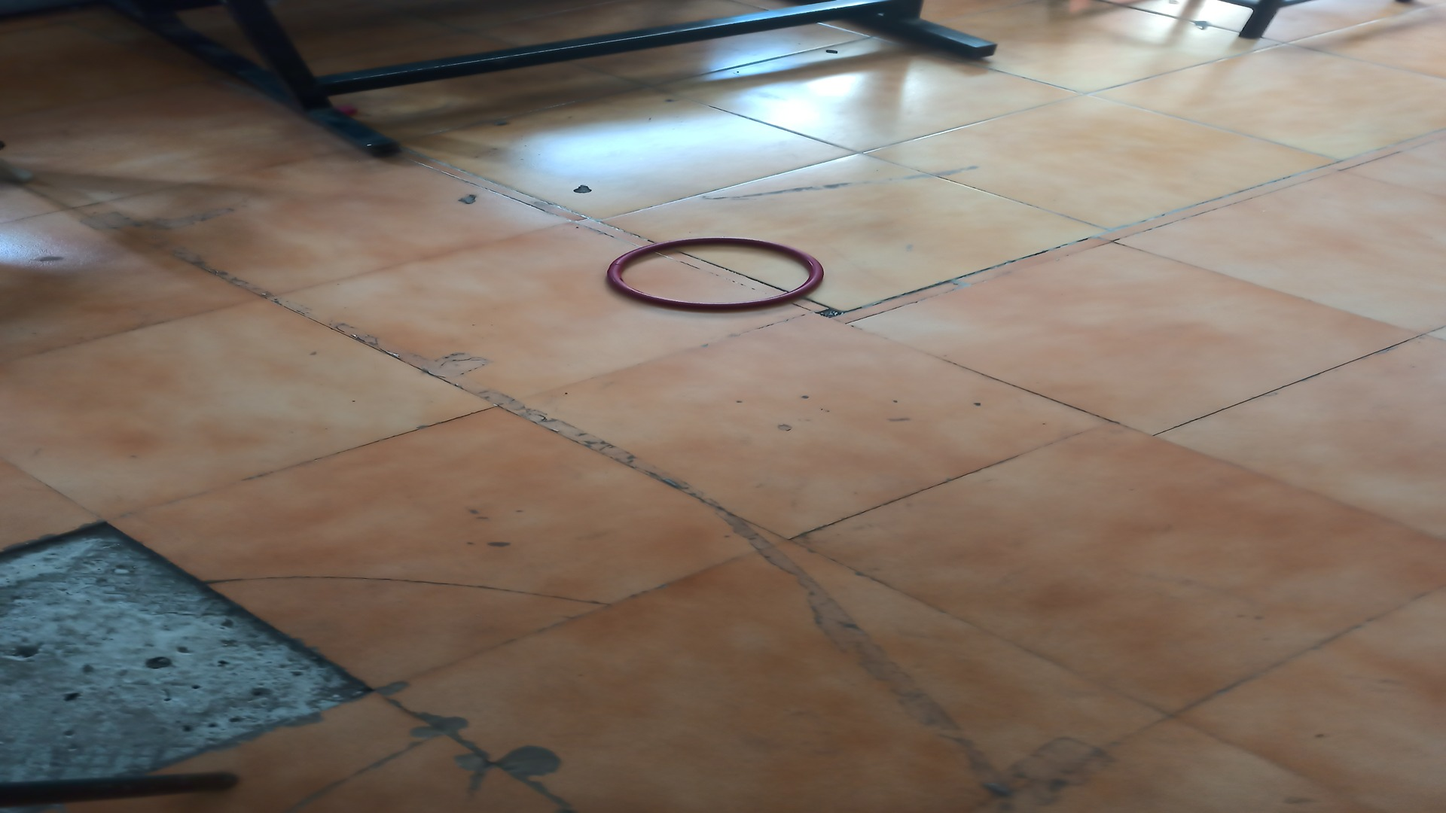Red ring: (607, 239, 828, 311)
